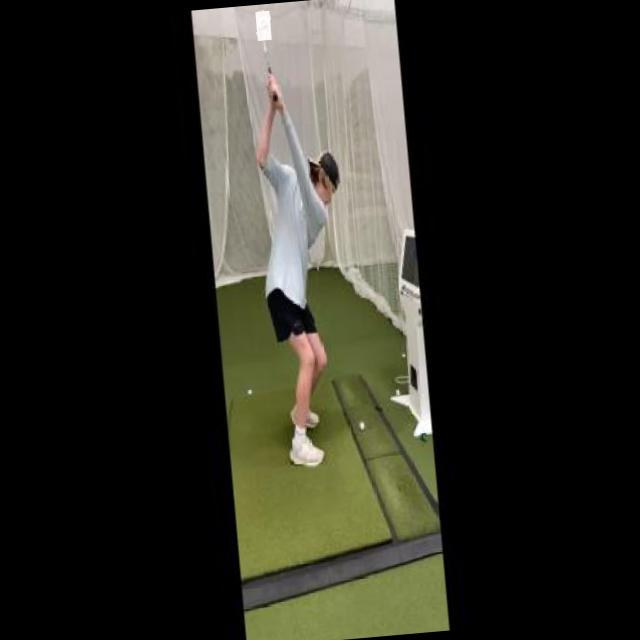club head: (254, 10, 272, 40)
